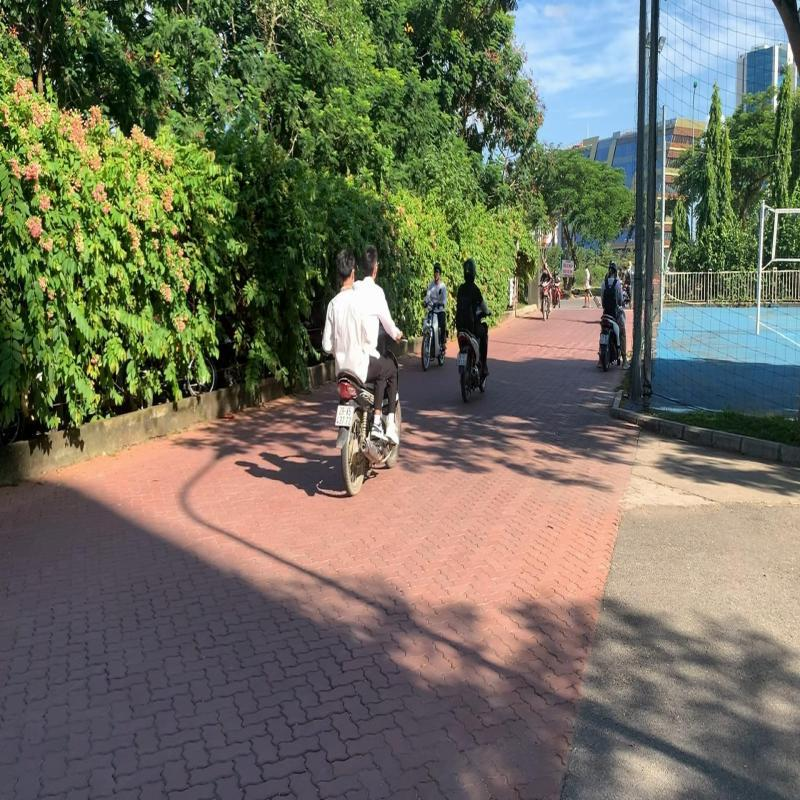licenseplate: (334, 402, 356, 430)
motorcyclist: (322, 242, 409, 502)
nohelmet: (334, 247, 358, 282), (362, 243, 378, 281)
